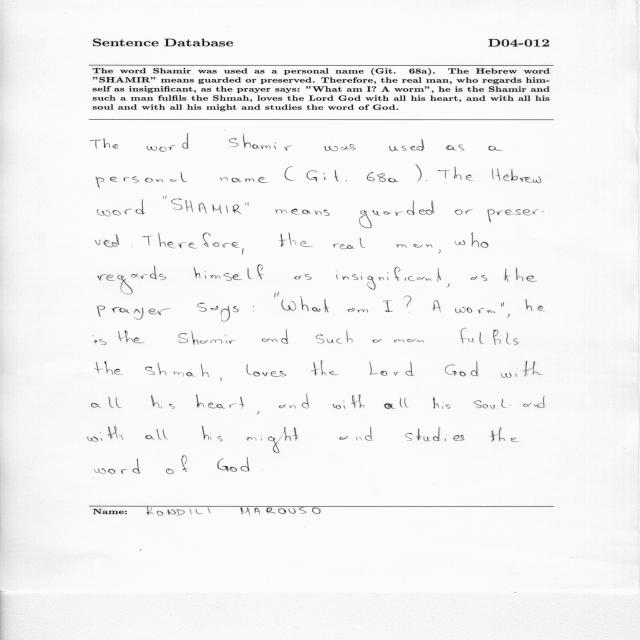word: (336, 267, 442, 290), (247, 411, 299, 453), (359, 201, 435, 229), (98, 266, 166, 295), (142, 233, 240, 248), (96, 172, 187, 188), (171, 198, 241, 214), (194, 265, 264, 281), (97, 305, 171, 320), (229, 134, 292, 151), (461, 328, 519, 345), (145, 363, 209, 377), (97, 199, 145, 217), (178, 330, 235, 345), (405, 427, 465, 441), (197, 303, 239, 322), (281, 297, 329, 313), (147, 134, 189, 152), (94, 458, 141, 474), (492, 168, 542, 183), (488, 209, 545, 222), (196, 394, 244, 409), (501, 361, 543, 378), (369, 361, 414, 376), (88, 426, 124, 442), (247, 364, 287, 377), (455, 233, 489, 248), (340, 426, 374, 441), (504, 267, 537, 282), (445, 361, 478, 376), (306, 170, 347, 182), (438, 167, 473, 181), (316, 331, 353, 344), (279, 233, 313, 247), (279, 394, 309, 409), (333, 395, 365, 409), (490, 427, 519, 442), (389, 139, 424, 151), (311, 361, 339, 376), (473, 398, 511, 409), (166, 456, 188, 474), (95, 361, 123, 375), (262, 329, 288, 344), (275, 209, 330, 216), (333, 238, 366, 249), (367, 172, 399, 183), (118, 331, 144, 344), (151, 395, 175, 409), (92, 397, 122, 408), (95, 234, 120, 247), (90, 138, 118, 149), (202, 426, 222, 441), (455, 307, 496, 314), (220, 177, 267, 183), (384, 398, 408, 409), (523, 396, 545, 408), (217, 459, 237, 472), (145, 429, 168, 439), (526, 299, 545, 311), (324, 144, 356, 151), (433, 397, 450, 409), (285, 166, 295, 181), (397, 244, 433, 248), (404, 296, 412, 313), (241, 457, 250, 471), (383, 300, 393, 312), (394, 339, 424, 343), (455, 209, 474, 215), (446, 145, 464, 151), (416, 164, 422, 182), (294, 274, 312, 280), (433, 300, 441, 313), (471, 275, 487, 281), (348, 308, 368, 312), (489, 146, 503, 151), (95, 339, 106, 345), (373, 339, 382, 343), (275, 292, 279, 298), (245, 202, 249, 206), (501, 302, 504, 307), (242, 249, 244, 255), (447, 284, 450, 288), (507, 314, 510, 318), (439, 249, 441, 254), (163, 196, 166, 199), (220, 378, 222, 382), (242, 407, 243, 409), (426, 181, 427, 182), (132, 246, 133, 247), (253, 306, 254, 307)
